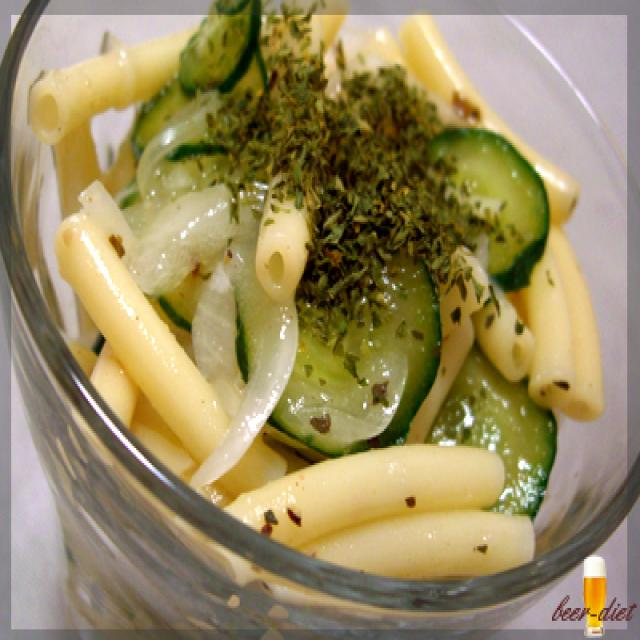蔬菜料理: (8, 0, 626, 608)
